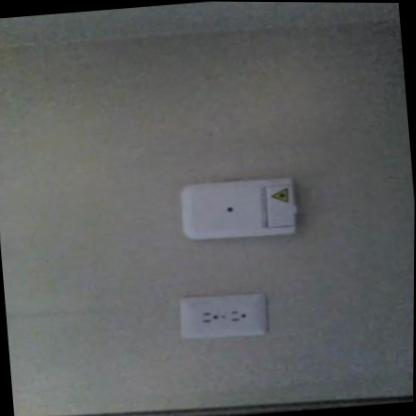OUTLET: (176, 289, 268, 340)
